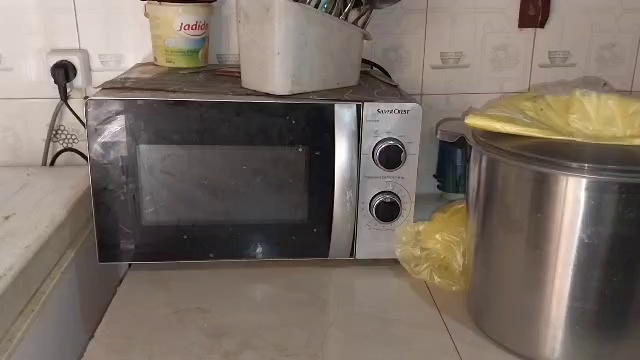microwave: (77, 77, 445, 283)
